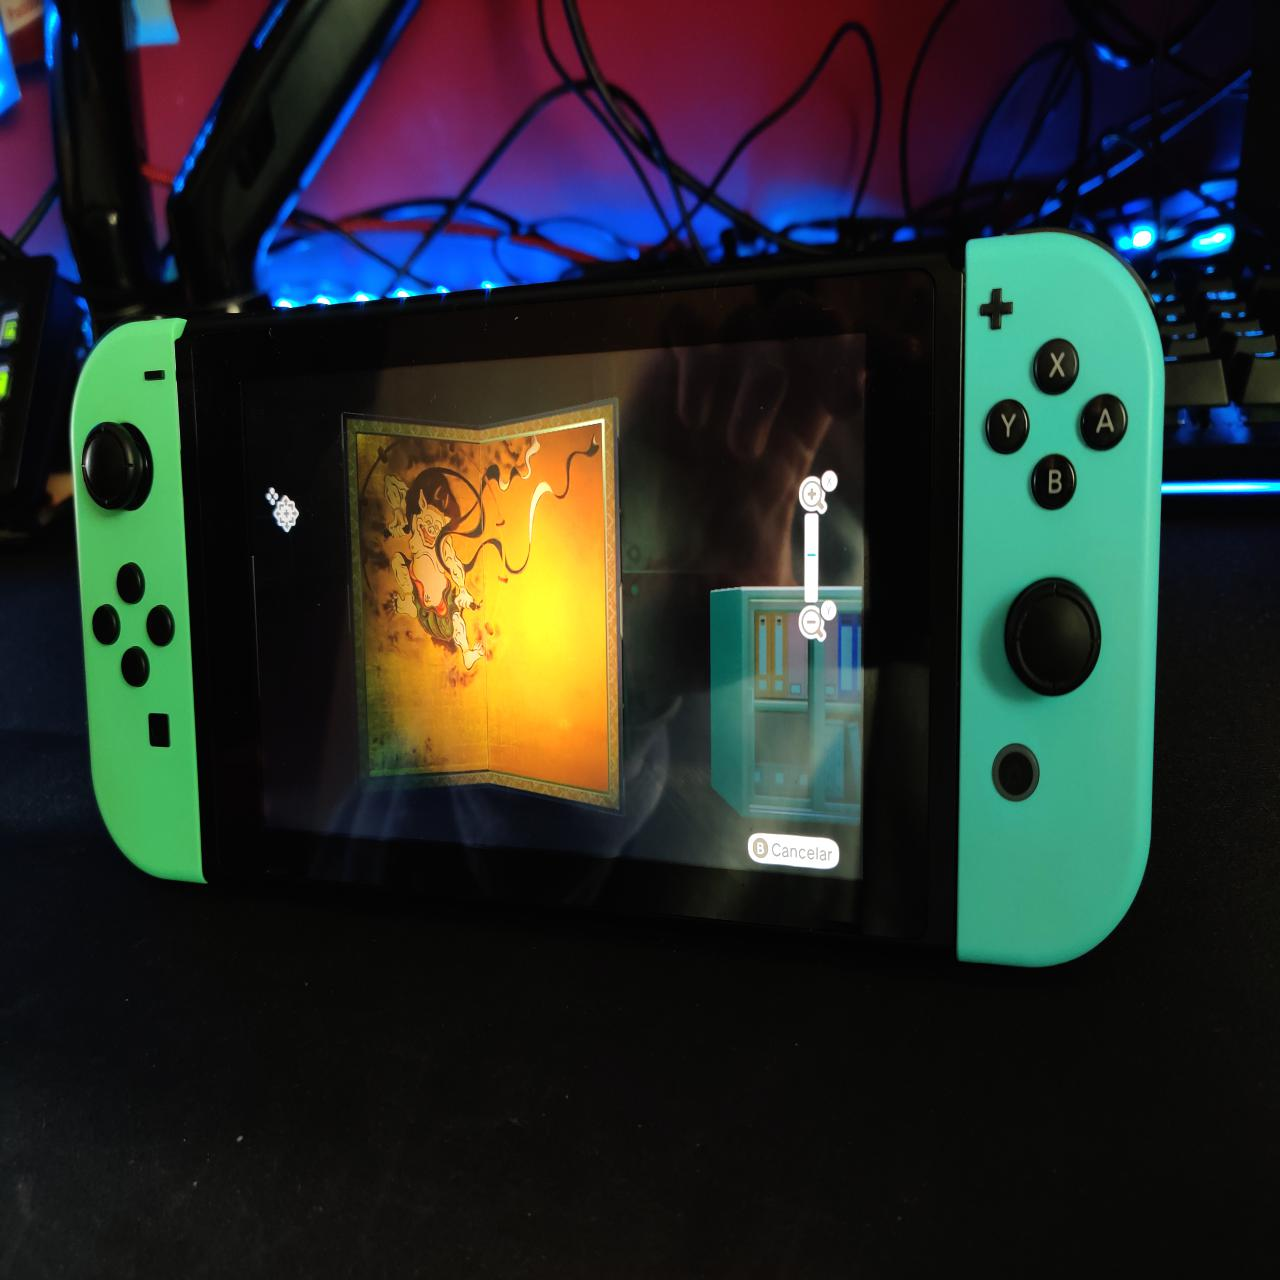Raijin: (341, 416, 626, 816)
